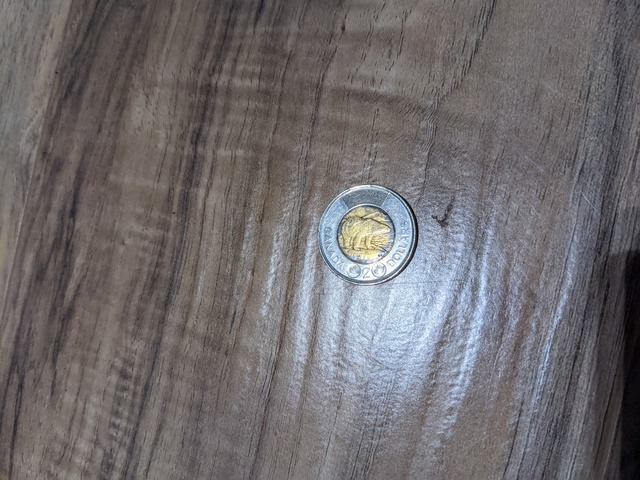twonie: (316, 178, 418, 282)
